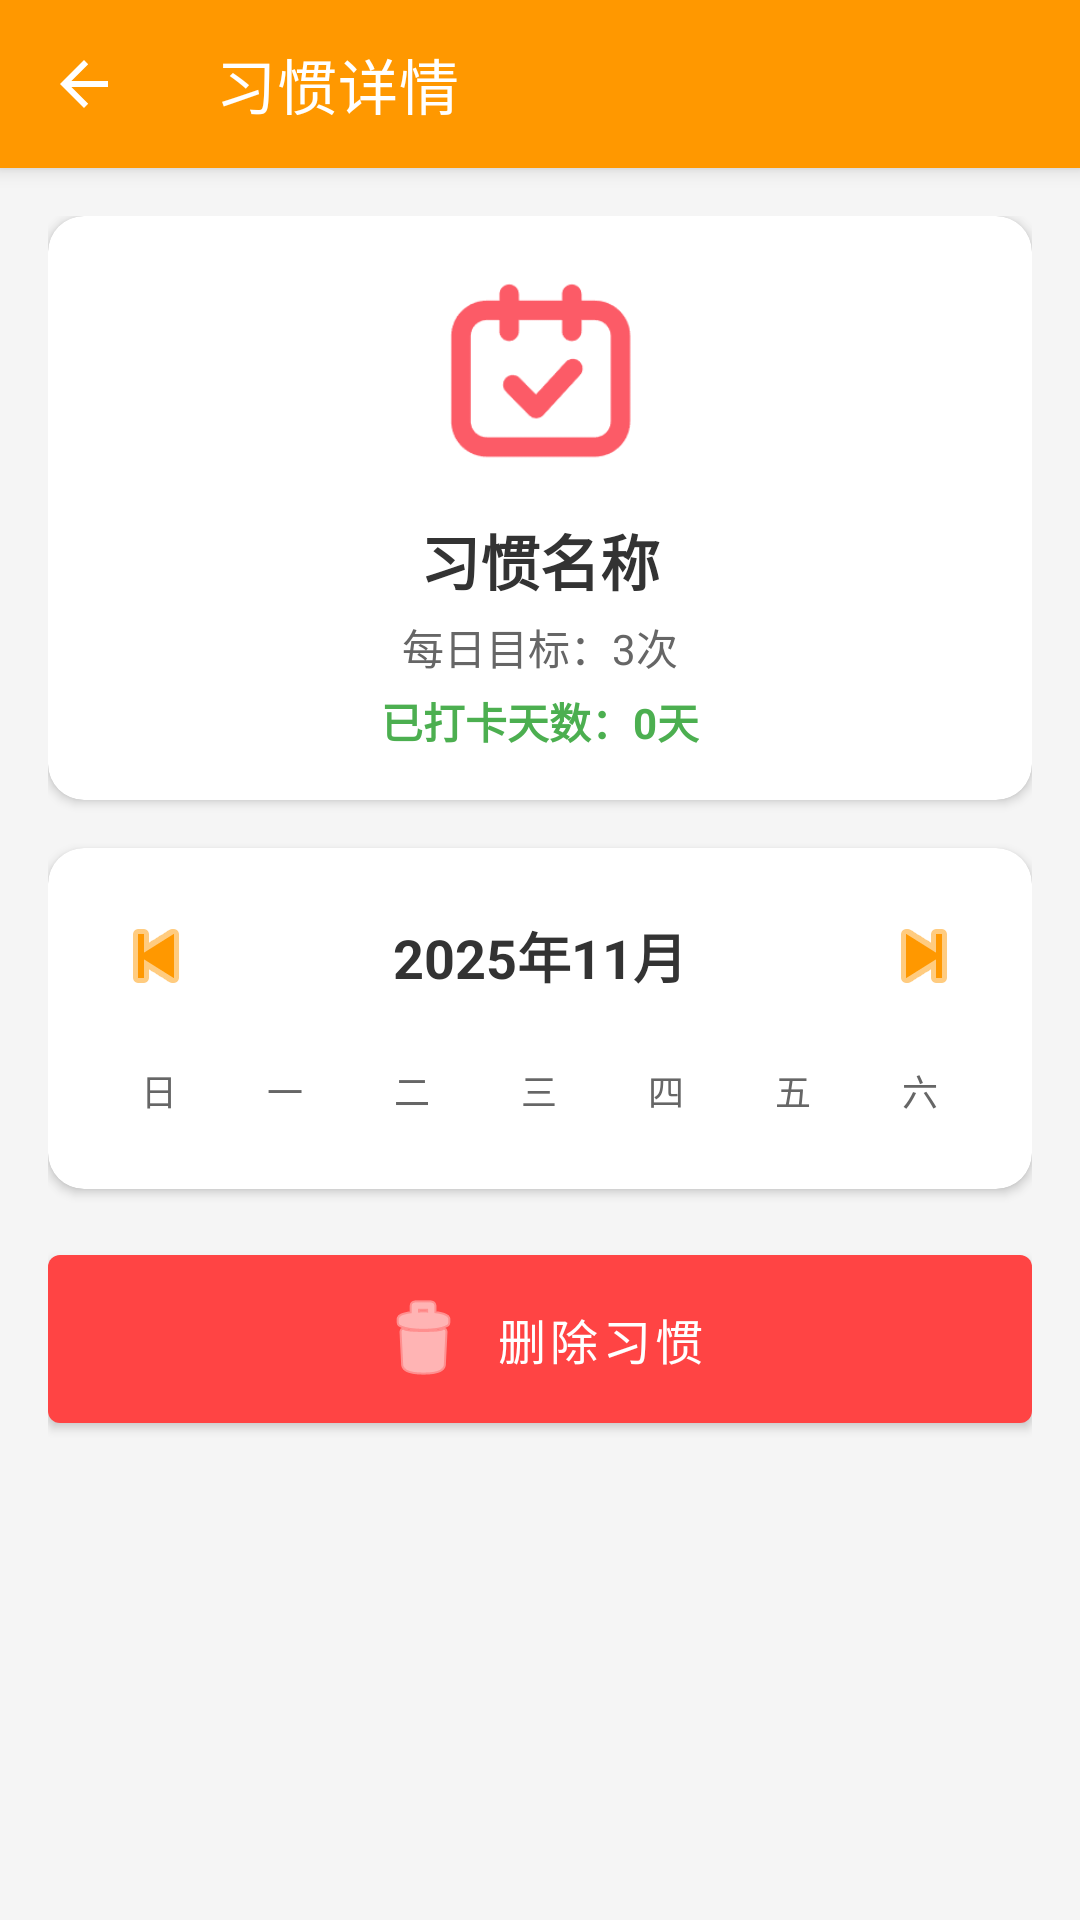

Where icons sit on this 1080 x 1920 app screen, as box=[x1, y1, x2, y2]:
daka: box=[451, 284, 631, 458]
next: box=[901, 929, 947, 983]
previous: box=[133, 929, 179, 983]
